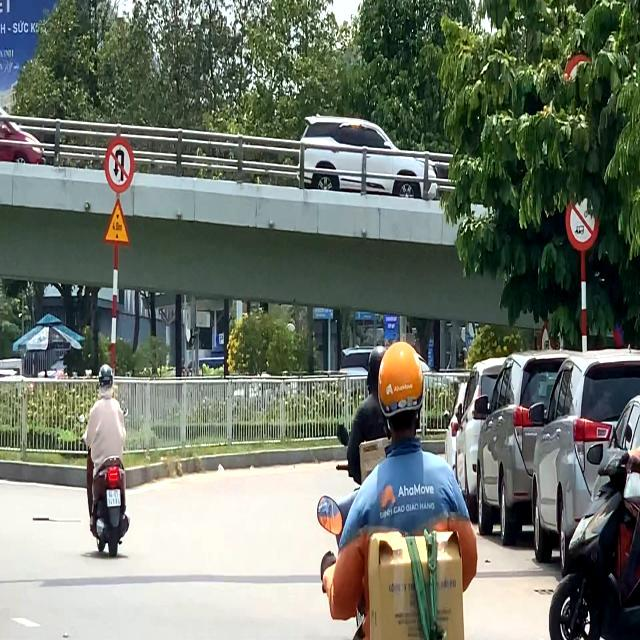Cam quay dau xe: (105, 136, 135, 192)
Chieu cao an toan: (103, 196, 132, 248)
